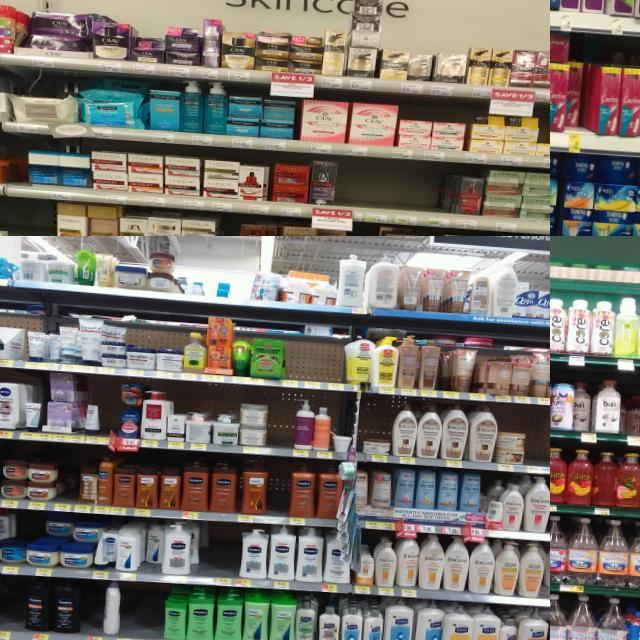Imprecise: (32, 512, 98, 570), (132, 512, 168, 578), (618, 386, 640, 434)
